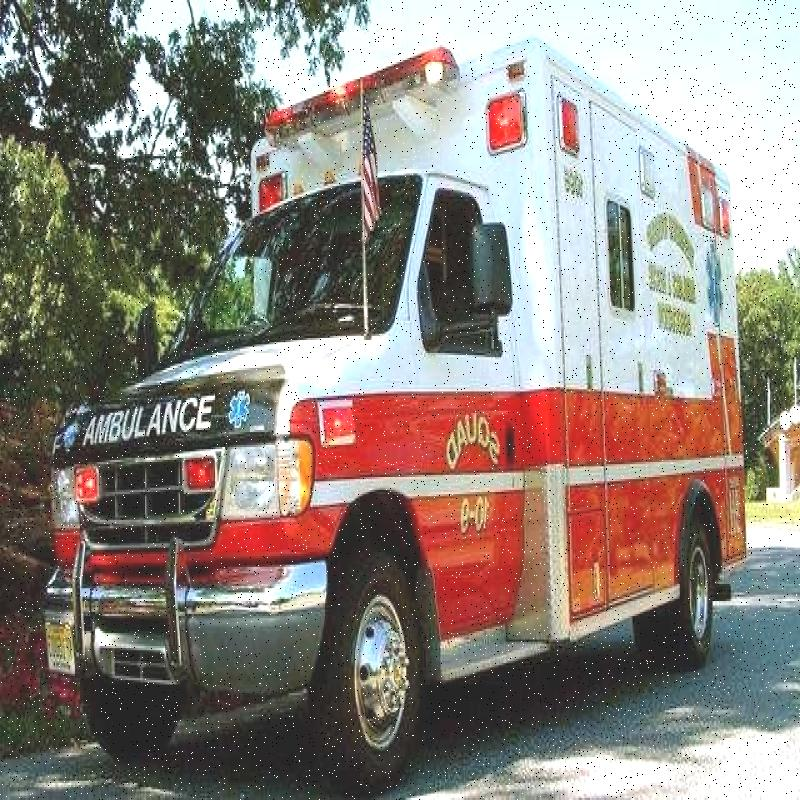AmbulanceSiren: (262, 30, 460, 167)
